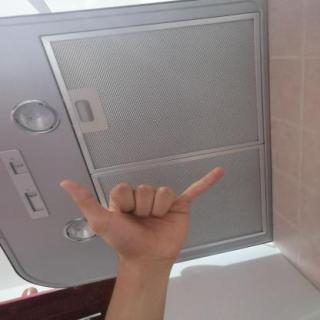YA: (49, 158, 237, 273)
